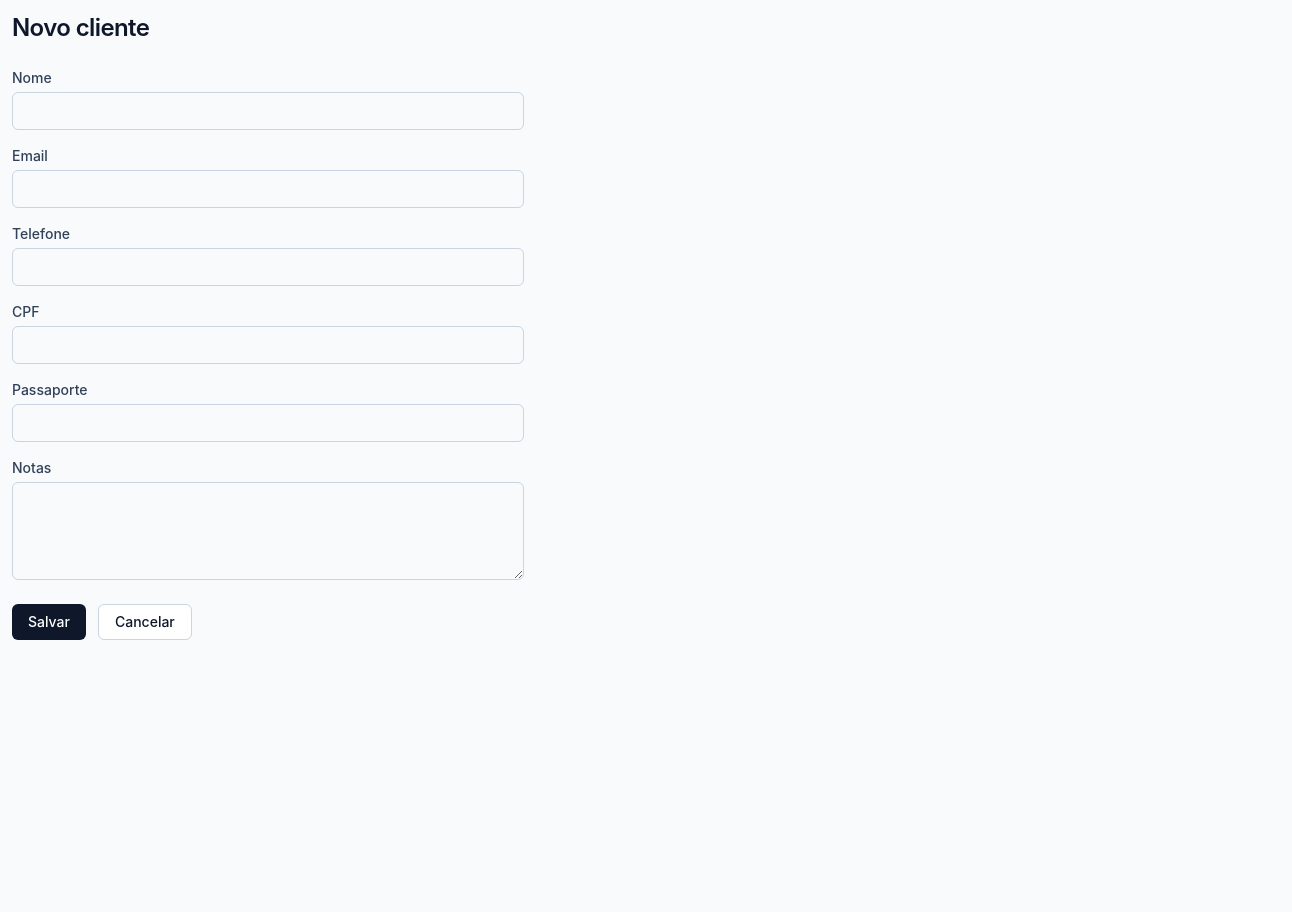
CustomerFormPage › 400 error displays the backend message and keeps the form visible
Type "Maria Silva" into the field labelled "Nome". click: {"x": 268, "y": 111}
box: [12,92,524,130]
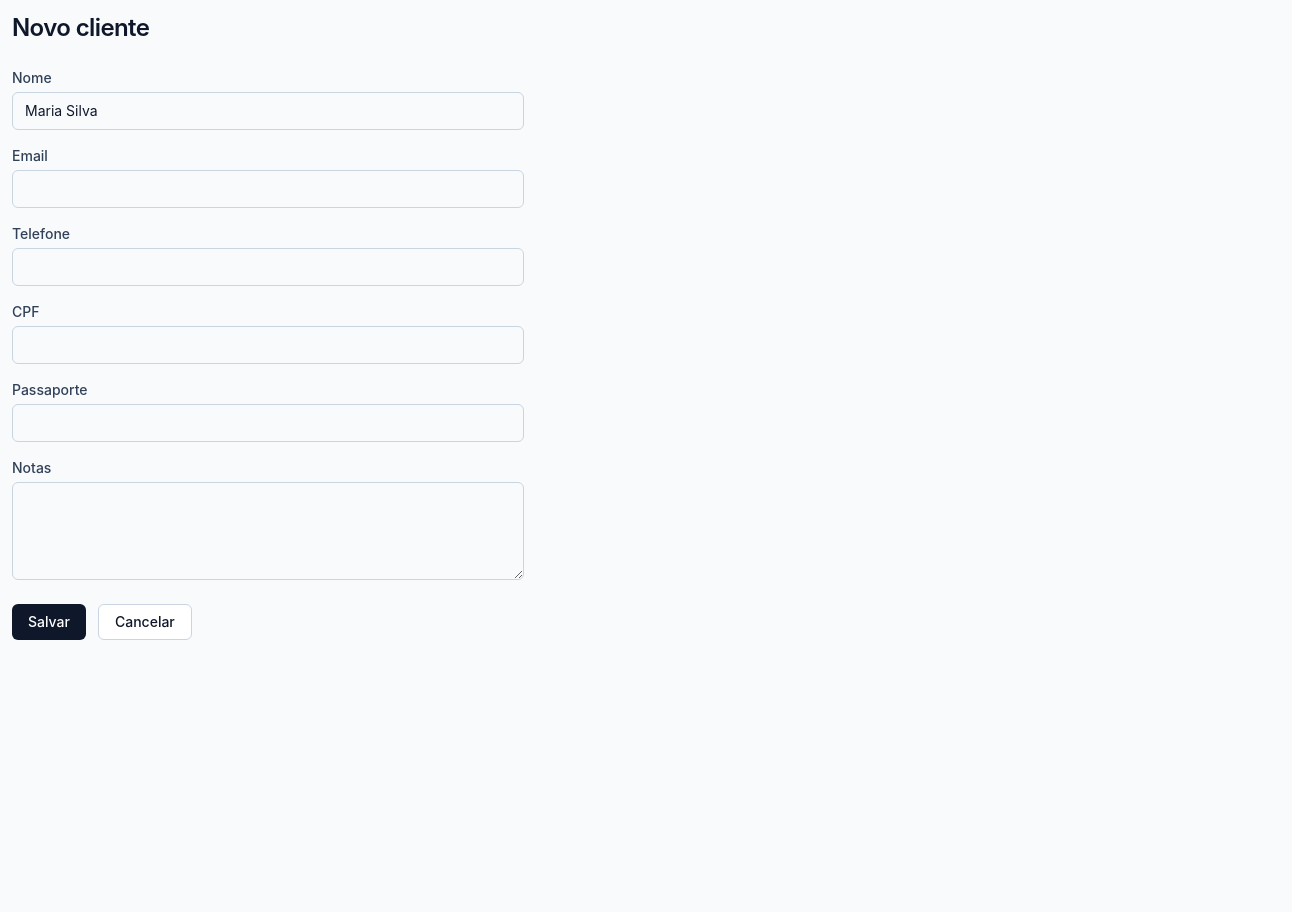
Click the button "Salvar". click: {"x": 49, "y": 622}
box: [12,604,86,640]
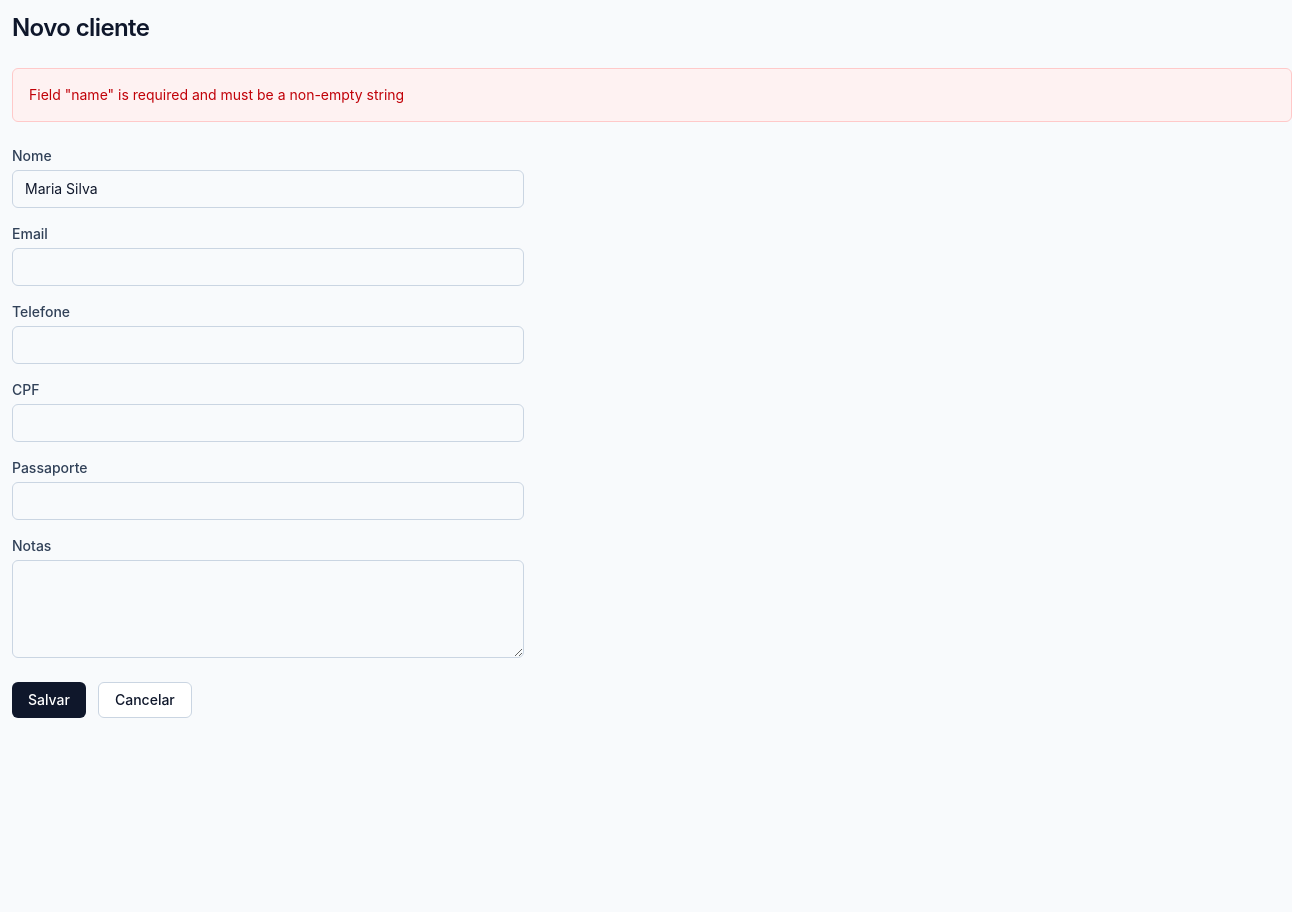
Expected: the heading "Novo cliente" is shown, [12,13,149,42]
Now the text "Field \"name\" is required and must be a non-empty string" is shown, box [12,68,1291,122]
